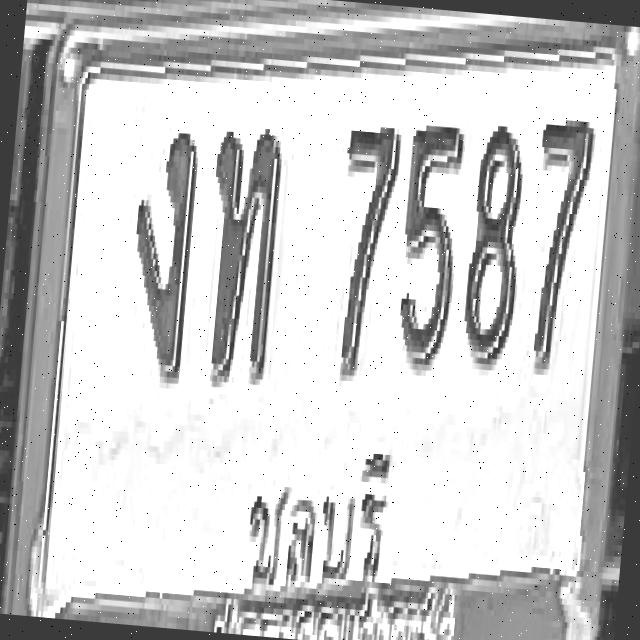16NgorNgu: (122, 120, 202, 380)
32ThorThaHan: (197, 118, 287, 386)
5: (392, 114, 466, 368)
7: (326, 115, 401, 381), (521, 108, 596, 374)
8: (458, 115, 530, 368)
Chonburi: (234, 443, 401, 614)
